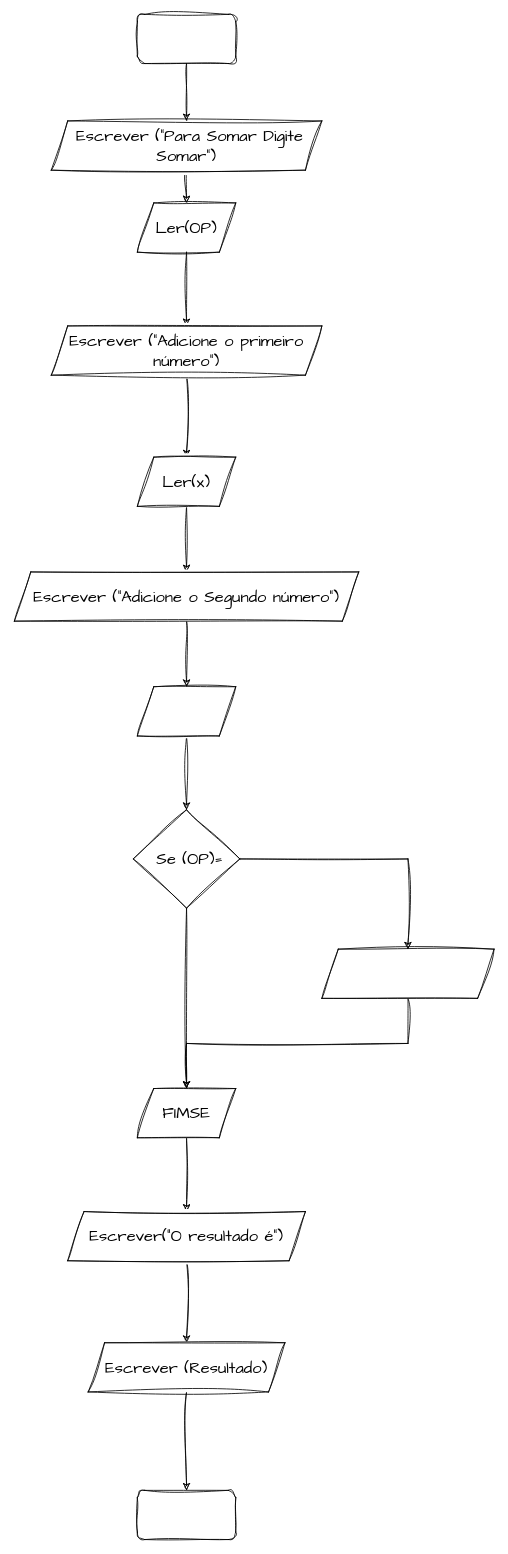
Some shapes in this 508 by 1554 pixel diagram are drawn without their labels. The shapes that lost their labels are listed below. From the top down, each one's centre as x and y in pixels, then its label:
point (186, 39): Início
point (186, 711): Ler (y)
point (407, 973): "Somar" Então Resultado <-(x+y)
point (186, 1515): Fim
